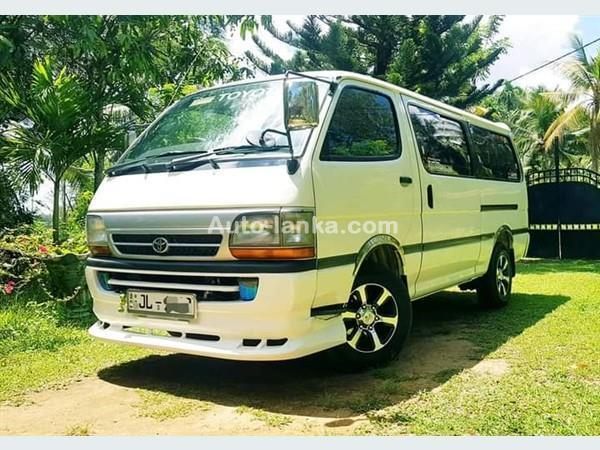car: (83, 64, 546, 376)
